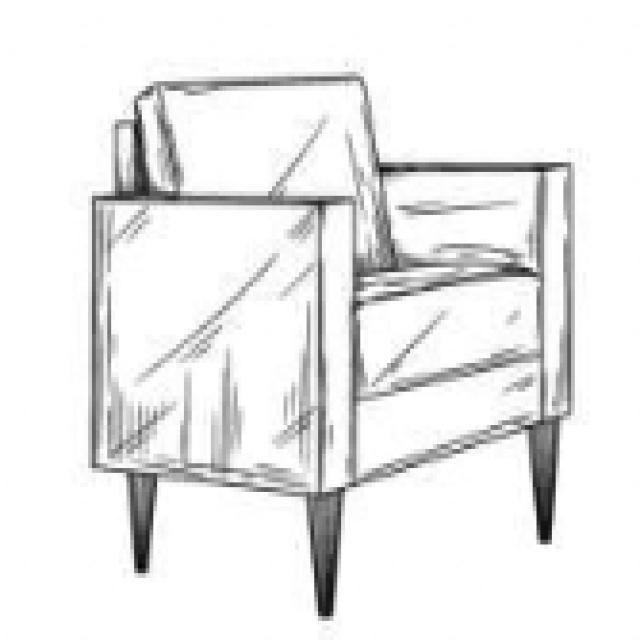Armrest: (85, 196, 359, 497), (377, 161, 576, 427)
Backrest: (111, 71, 401, 274)
Leg_Structure: (119, 403, 570, 630)
Seat: (353, 261, 543, 484)
